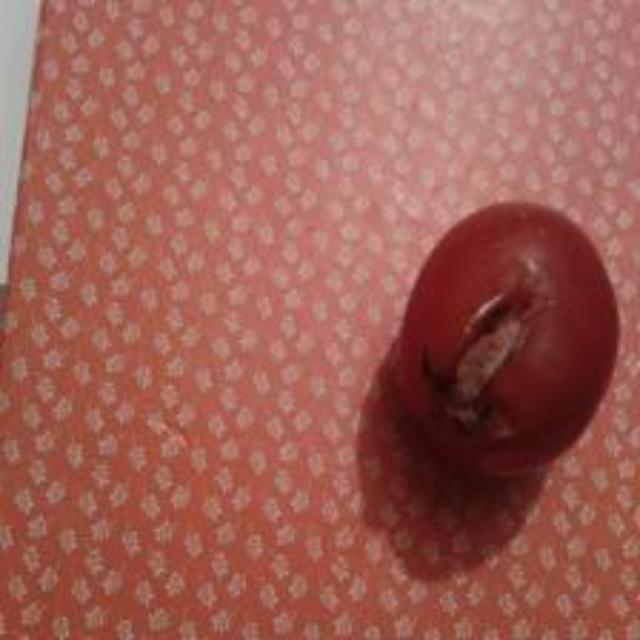defect: (396, 196, 625, 475)
